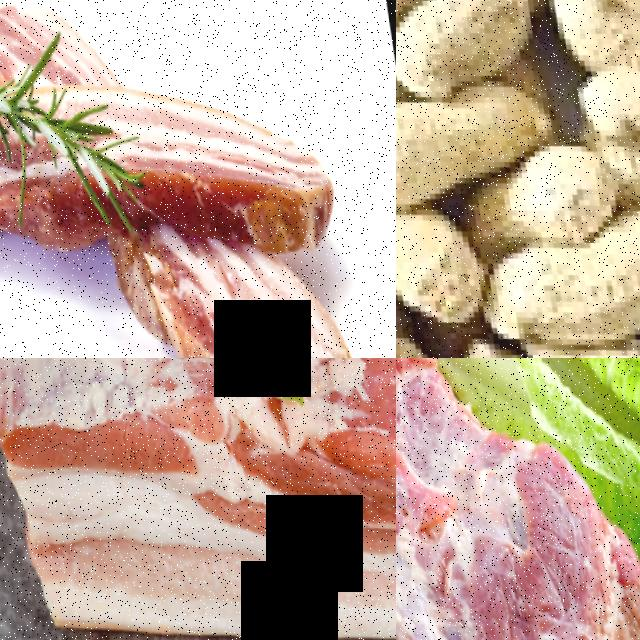peanuts: (396, 59, 546, 218), (396, 0, 548, 102), (497, 119, 623, 238), (396, 187, 489, 317), (577, 179, 640, 325), (576, 43, 640, 165), (542, 0, 640, 72)
pork belly: (0, 358, 396, 640), (111, 55, 339, 235), (117, 210, 362, 358), (414, 509, 640, 640), (396, 358, 473, 640), (0, 0, 105, 90)
